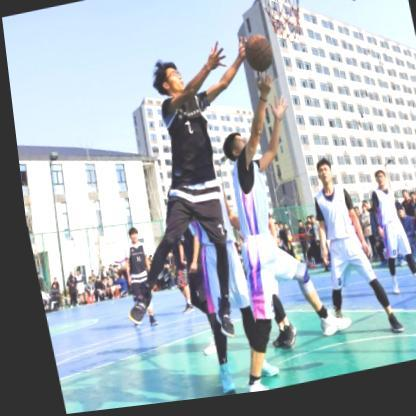basketball: (240, 37, 273, 81)
rim: (249, 0, 310, 53)
